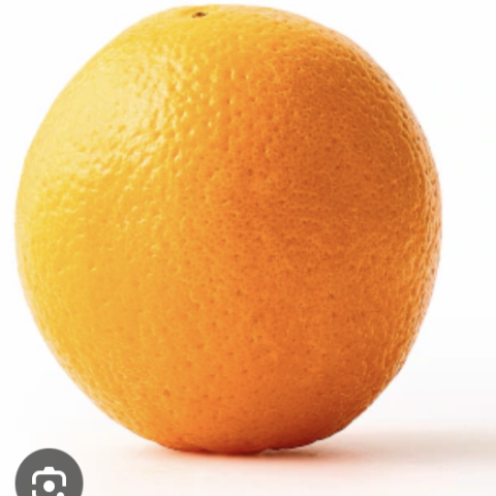orange: (0, 0, 486, 495)
